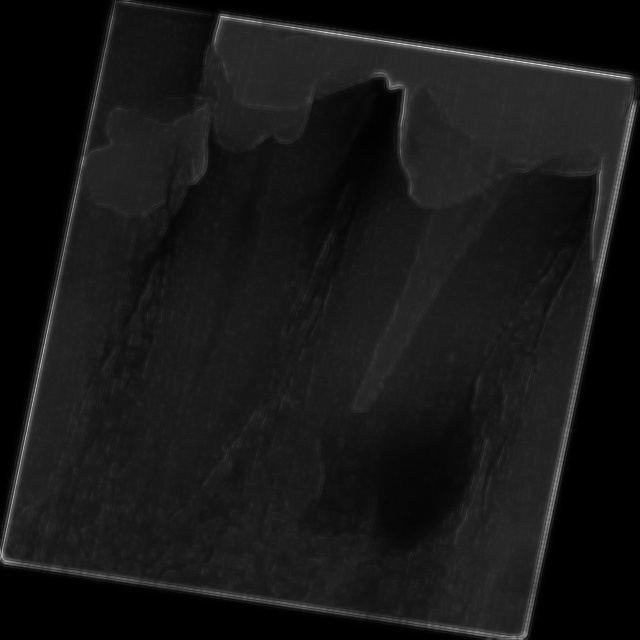Class 1- complete endodontic treatment: (226, 32, 640, 594)
